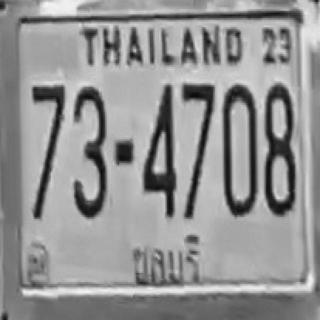N00: (221, 83, 256, 215)
N03: (72, 85, 106, 217)
N04: (142, 82, 175, 216)
N07: (31, 84, 65, 194), (181, 81, 215, 190), (181, 81, 215, 172), (181, 81, 215, 163), (31, 83, 65, 163)
N08: (263, 82, 295, 214)
P13: (123, 229, 209, 288)
